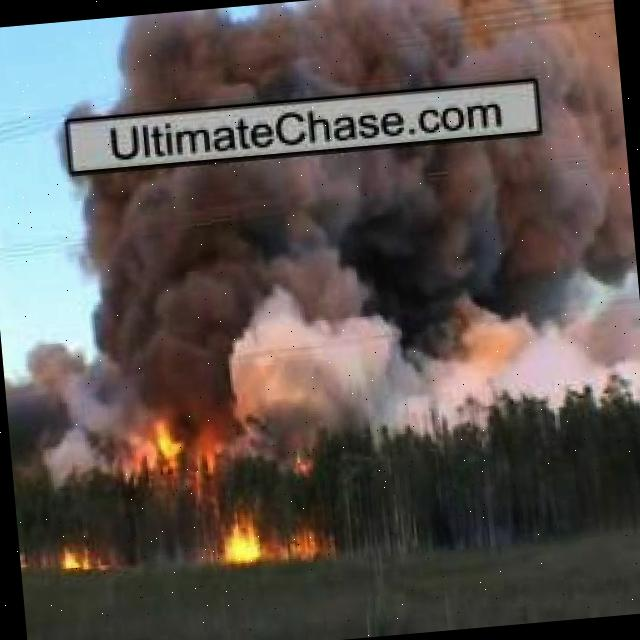fire: (144, 406, 182, 464), (222, 508, 262, 559), (280, 527, 321, 565), (56, 536, 97, 572)
